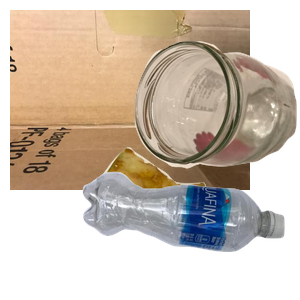cardboard: (10, 10, 250, 190)
glass: (132, 38, 300, 199)
plastic: (80, 169, 300, 300)
trash: (96, 145, 295, 300)
